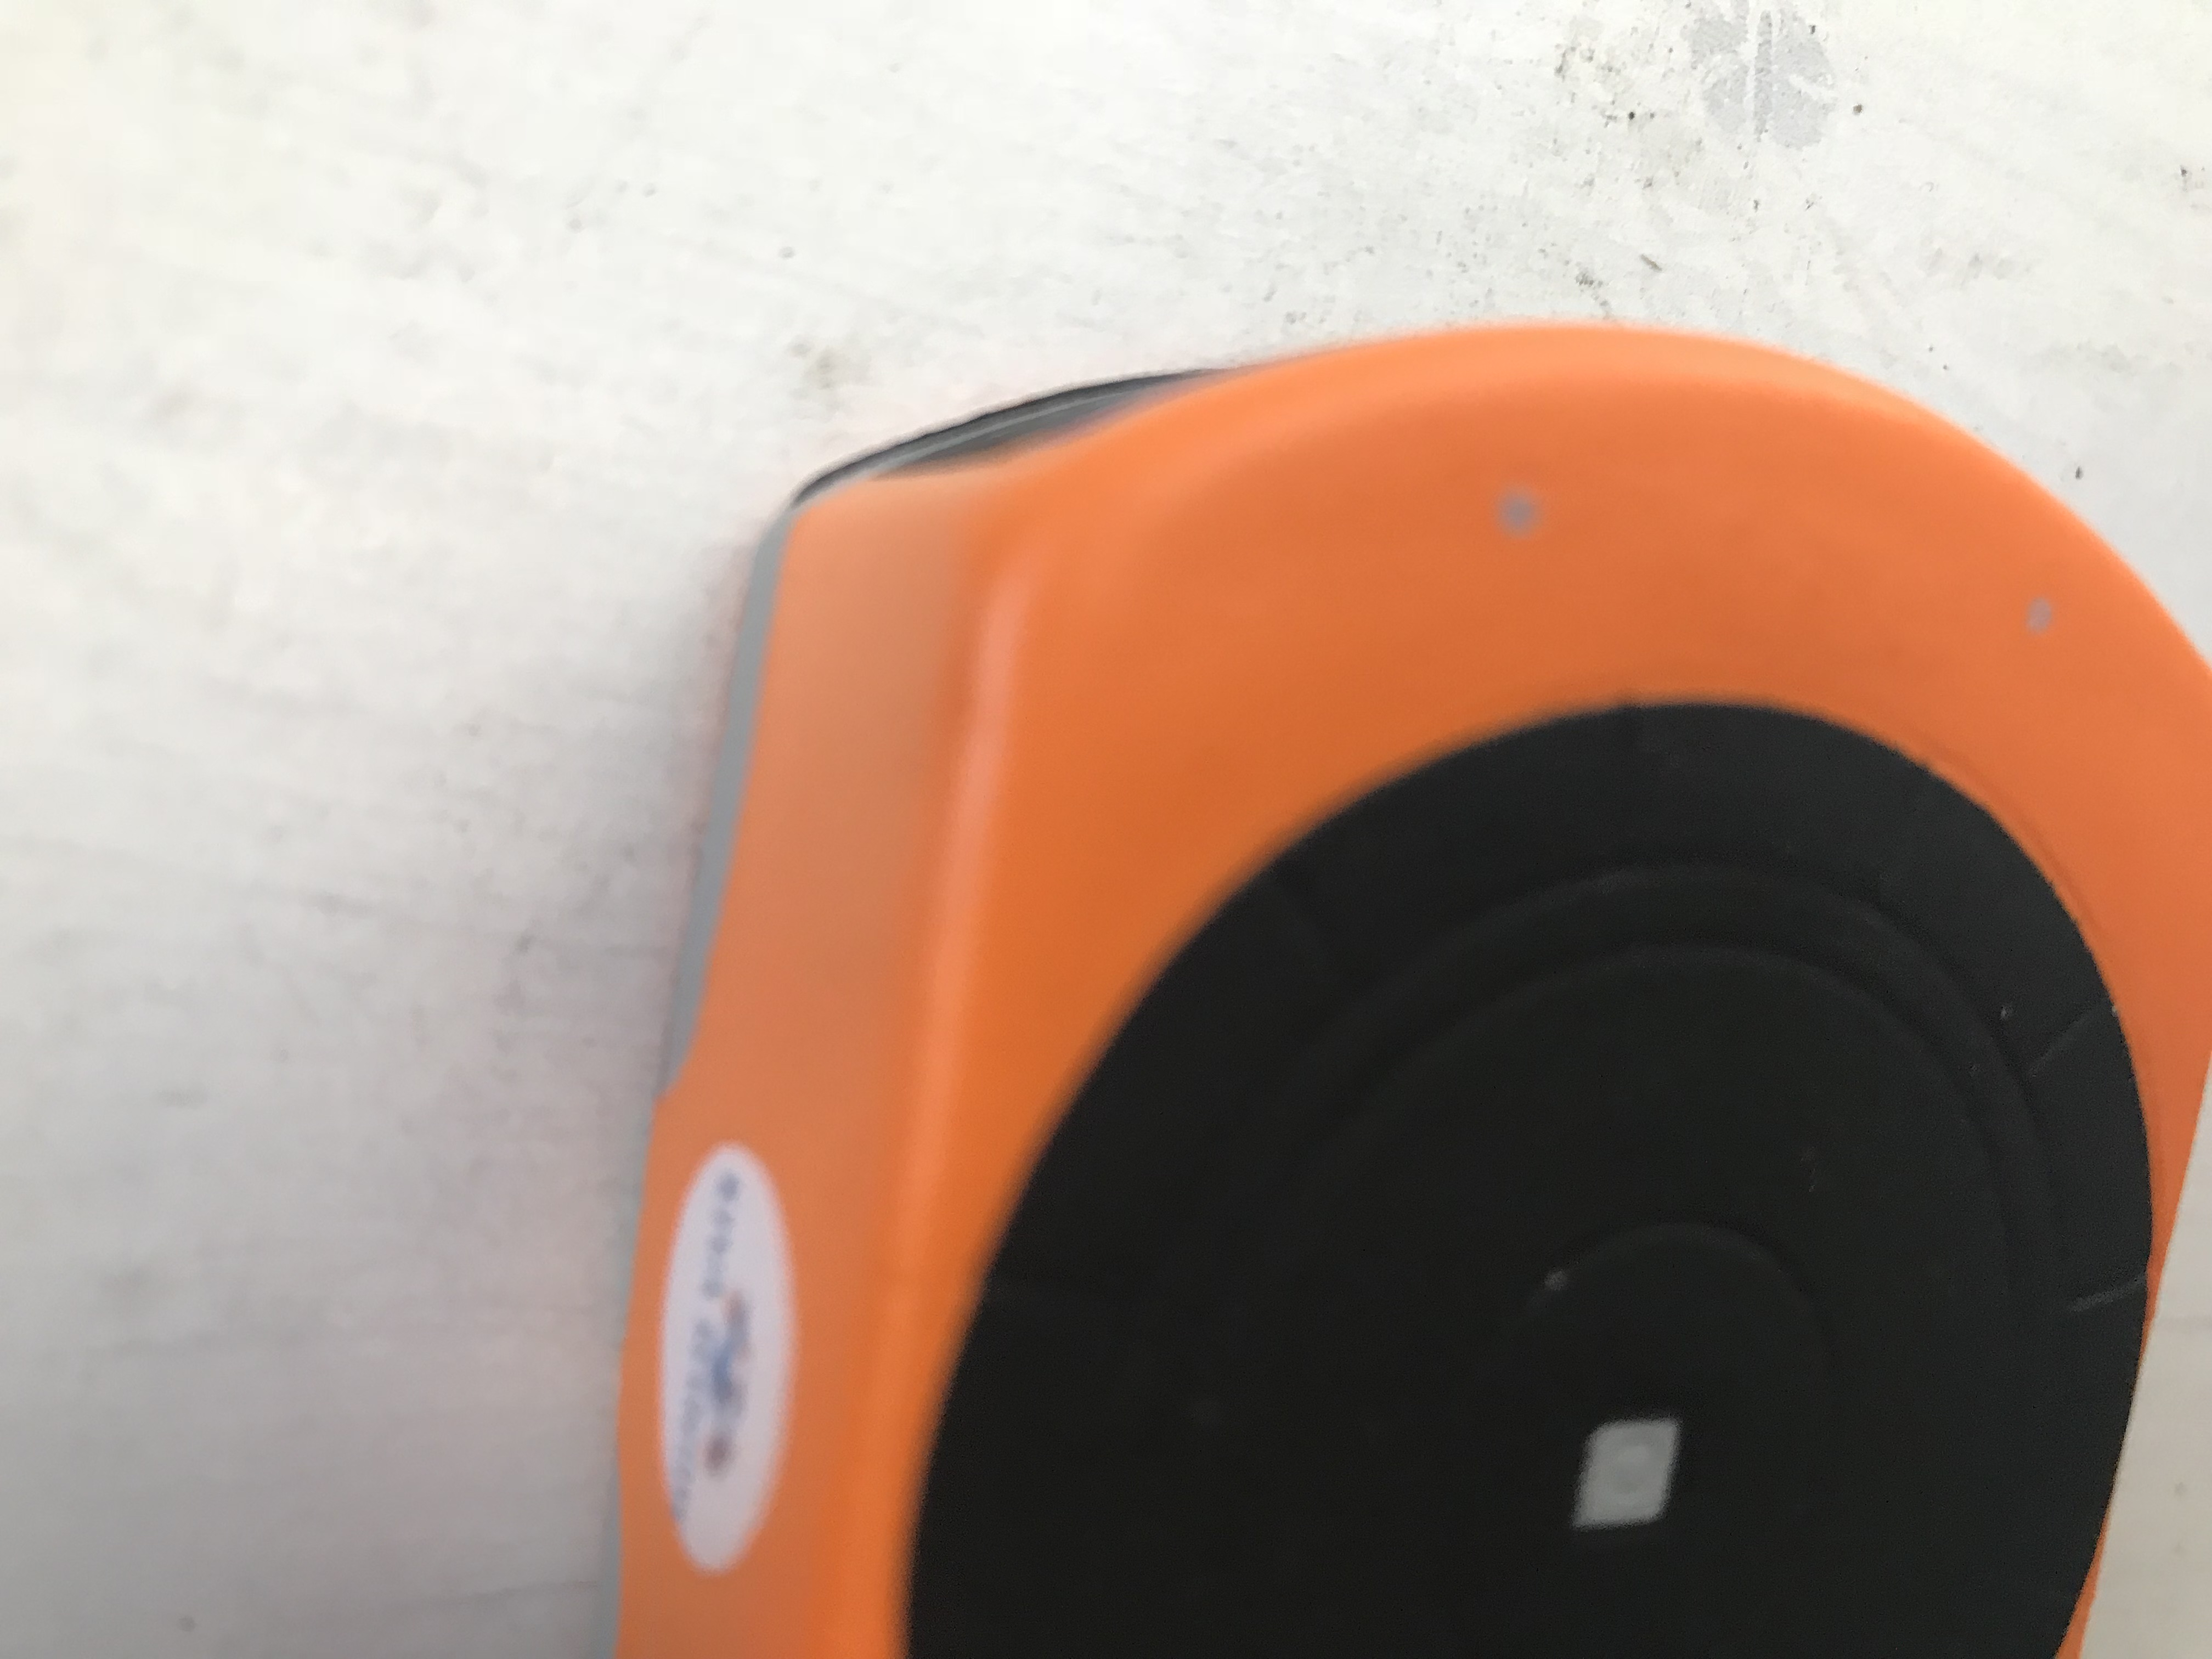amazon_bot: (631, 303, 2207, 1659)
